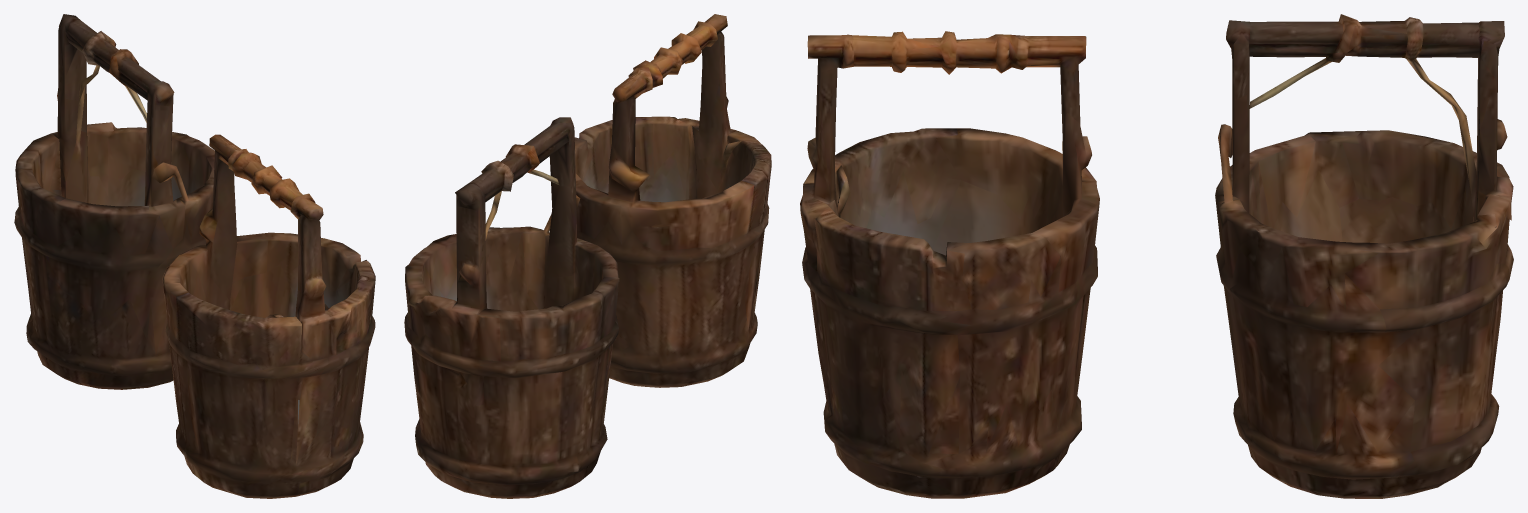
The model's file is mutong.glb.
3 renders of one model, left to right at view 1: azimuth 30°, elevation 25°; view 2: azimuth 150°, elevation 25°; view 3: azimuth 270°, elevation 25°, orthographic. The views are drawn at different scales.
Visible parts, largest first — view 1: tripo_node_5f311011-179c-414a-81f1-00d1e4e62716; view 2: tripo_node_5f311011-179c-414a-81f1-00d1e4e62716; view 3: tripo_node_5f311011-179c-414a-81f1-00d1e4e62716.
Part boxes in pixels (x1,y1,x2,y2): tripo_node_5f311011-179c-414a-81f1-00d1e4e62716: (14,14,375,498); tripo_node_5f311011-179c-414a-81f1-00d1e4e62716: (404,14,771,498); tripo_node_5f311011-179c-414a-81f1-00d1e4e62716: (800,14,1513,498).
Bounding box in the file's own units: 0.6158 × 1 × 1.49.
Materials: 1 (1 with a texture image).
